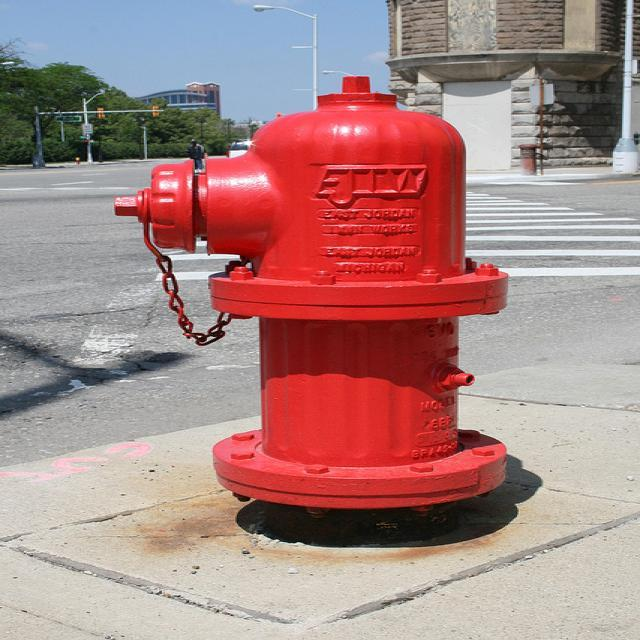fire_hydrant: (114, 75, 508, 529)
